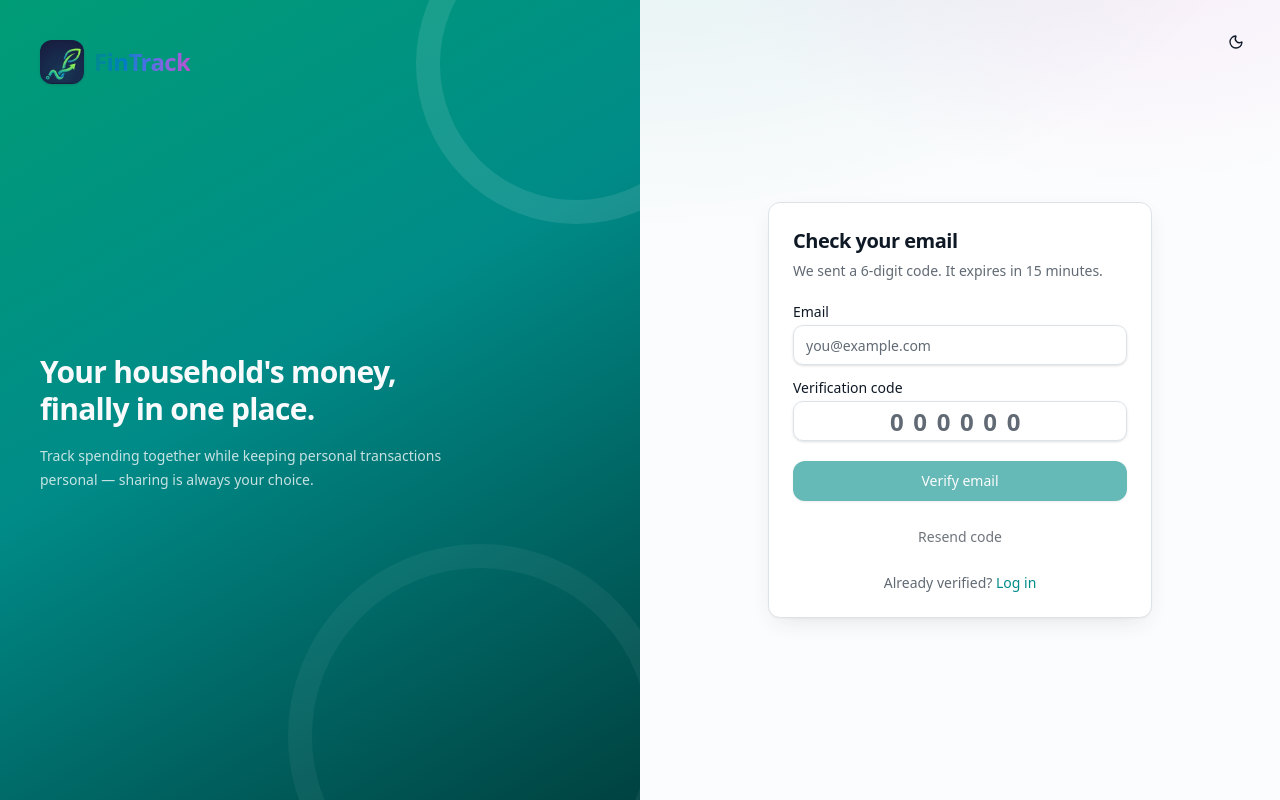
Test case: VerifyEmailPage › shows a network error when resend fails
This screenshot has width=1280, height=800.
In the field labelled "Email": x=960, y=345 [793,325,1127,365], type "jane@example.com"
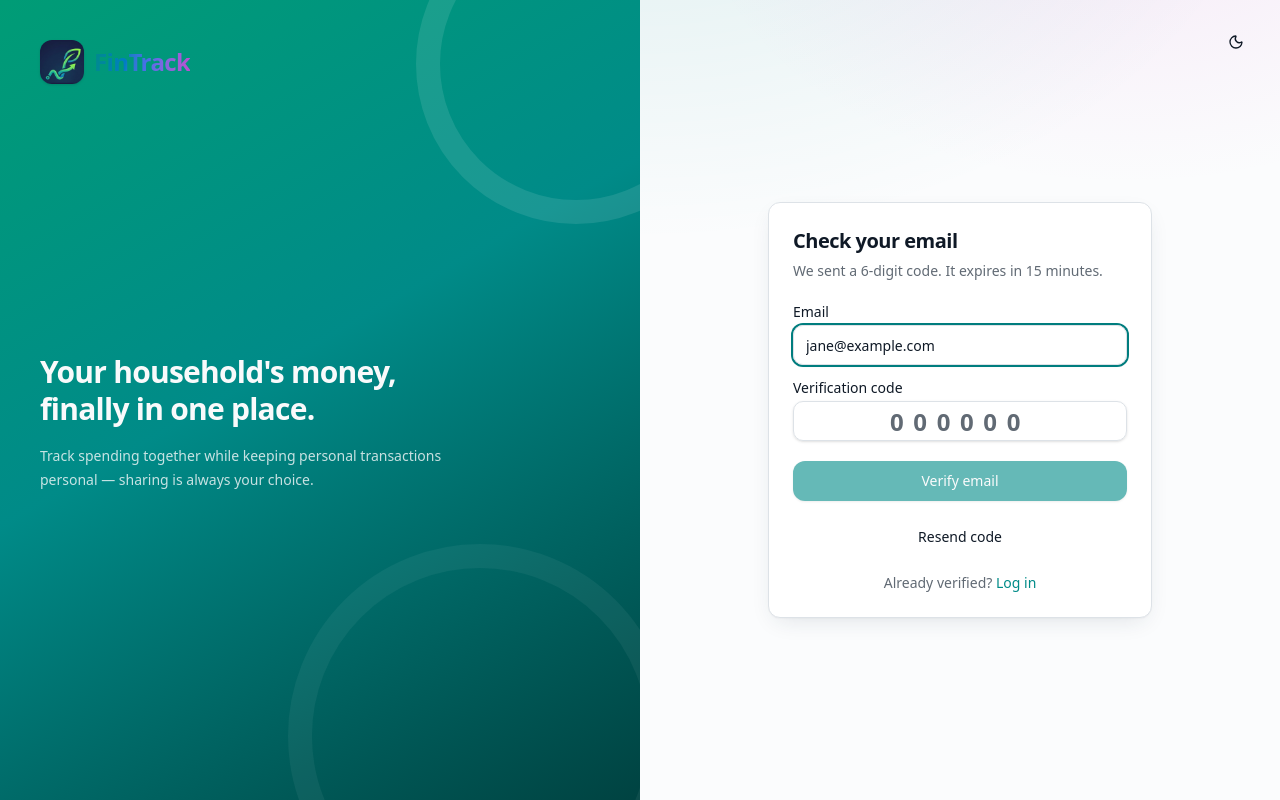
Click the button "Resend code": x=960, y=537 [793,517,1127,557]
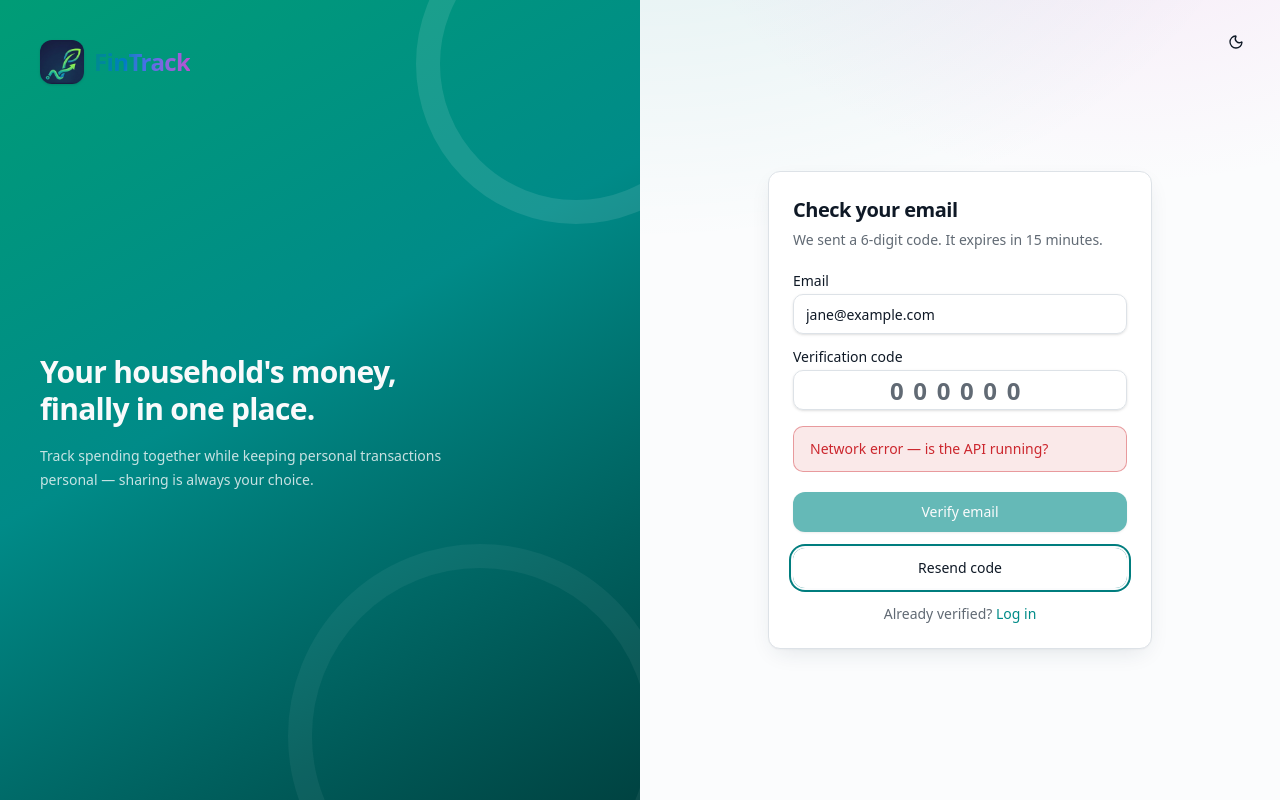
Expected: the text "Network error — is the API running?" is shown, [793,426,1127,472]
